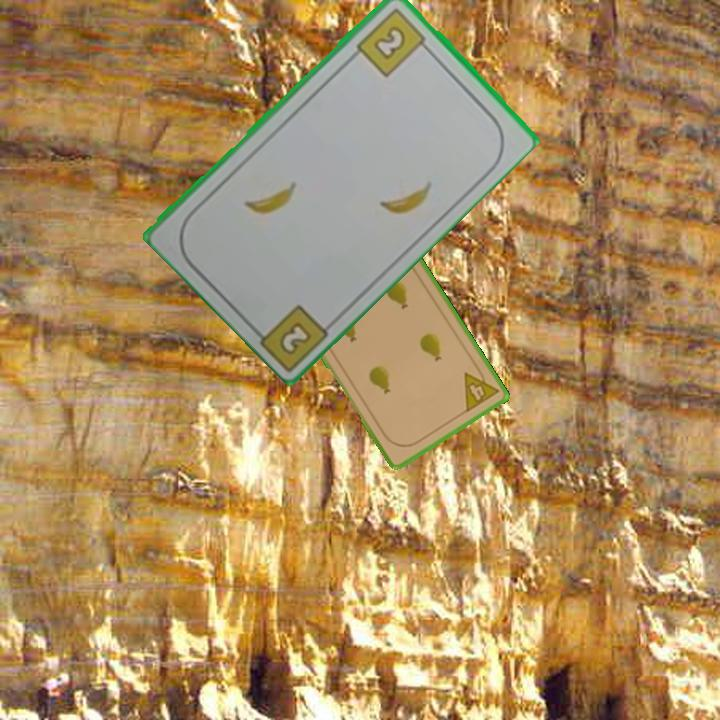2b: (353, 3, 433, 79), (275, 317, 315, 358)
4p: (461, 362, 502, 415)
